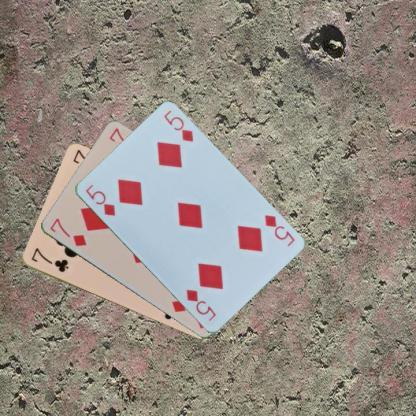5d: (261, 212, 296, 247), (82, 182, 116, 218)
7c: (29, 245, 70, 274)
7d: (47, 215, 88, 248)
